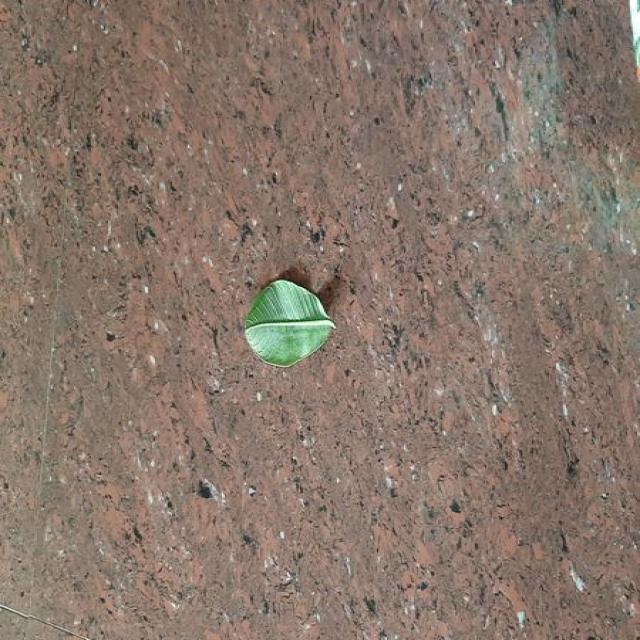leaf: (242, 278, 335, 368)
